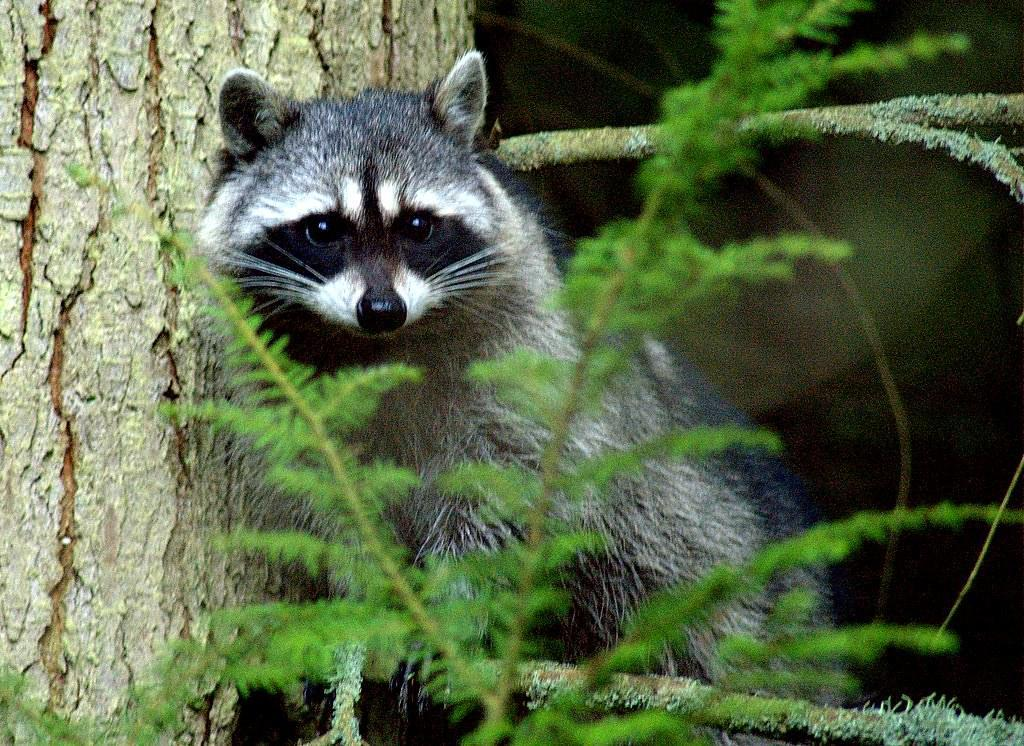raccoon: (203, 60, 862, 708)
